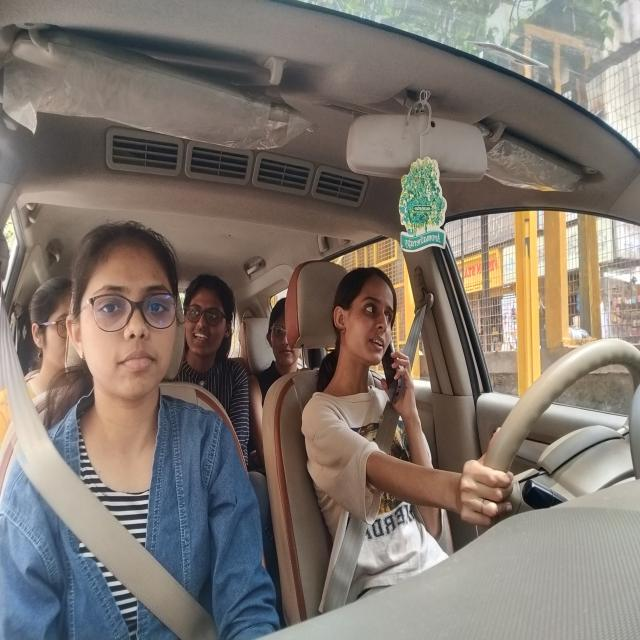mobile: (379, 344, 400, 395)
person: (76, 221, 179, 418), (332, 261, 395, 378), (27, 270, 76, 372), (185, 278, 233, 366), (268, 296, 300, 376)
